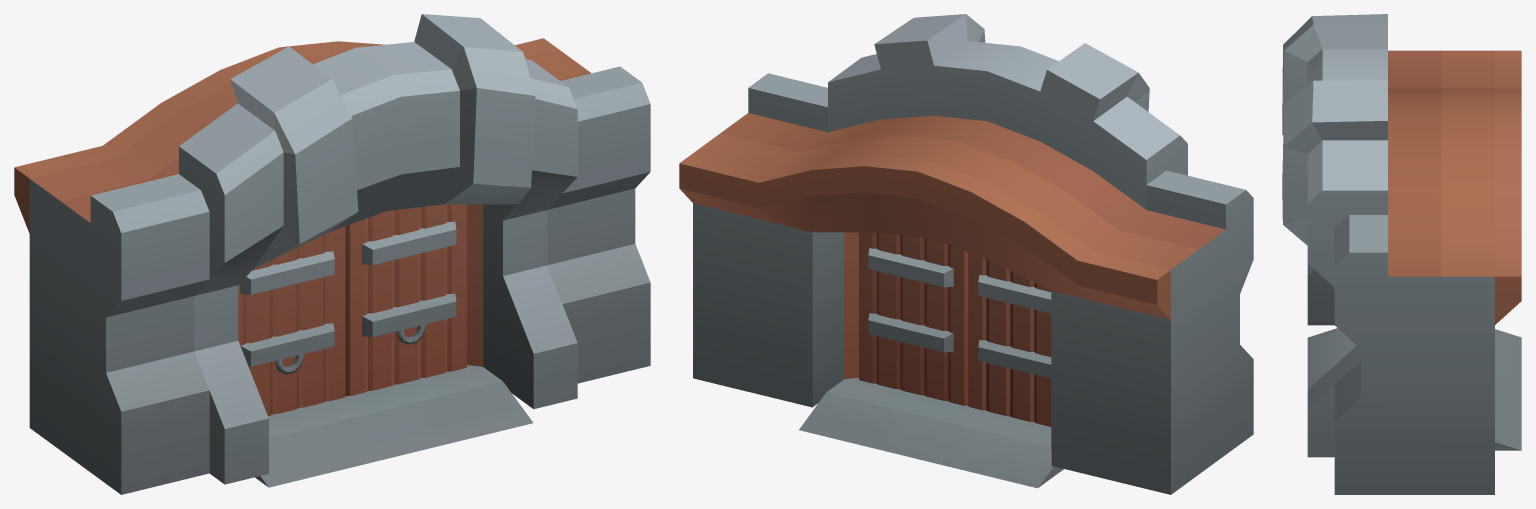
File: wall_gate.glb
3 renders of one model, left to right at view 1: azimuth 30°, elevation 25°; view 2: azimuth 150°, elevation 25°; view 3: azimuth 270°, elevation 25°, orthographic. The views are drawn at different scales.
Visible parts, largest first — view 1: wall_straight_gate, wall_straight_gate_door_left, wall_straight_gate_door_right; view 2: wall_straight_gate, wall_straight_gate_door_left, wall_straight_gate_door_right; view 3: wall_straight_gate.
Part boxes in pixels (x1,y1,x2,y2): wall_straight_gate: (14,14,650,494); wall_straight_gate_door_left: (346,204,466,396); wall_straight_gate_door_right: (238,226,346,416); wall_straight_gate: (679,14,1253,494); wall_straight_gate_door_left: (859,232,967,405); wall_straight_gate_door_right: (968,252,1051,426); wall_straight_gate: (1282,14,1521,494).
Bounding box in the file's own units: 2 × 1.41 × 0.8956.
1 material, 1 textured.
